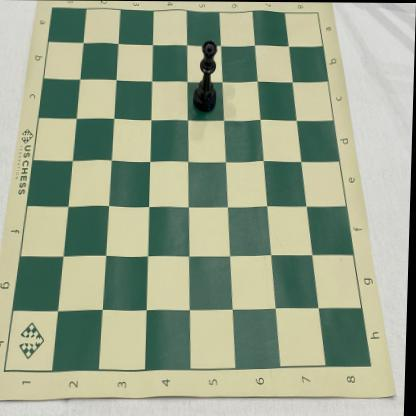black-queen: (192, 38, 220, 113)
